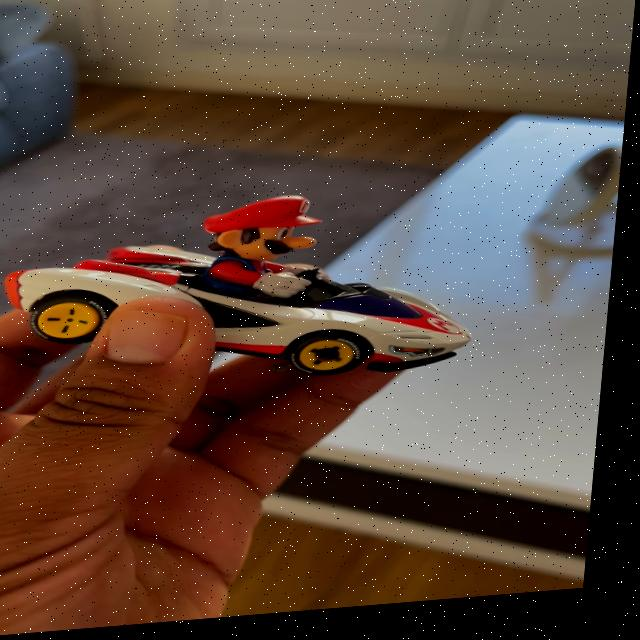mario: (0, 181, 510, 418)
